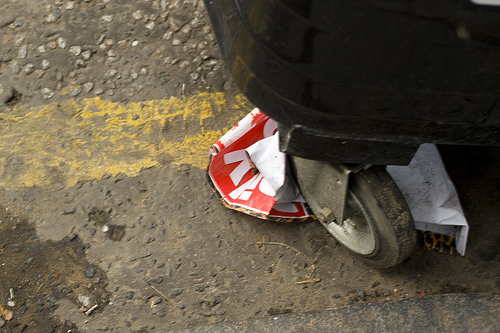litter: (204, 108, 315, 225), (386, 134, 471, 255)
